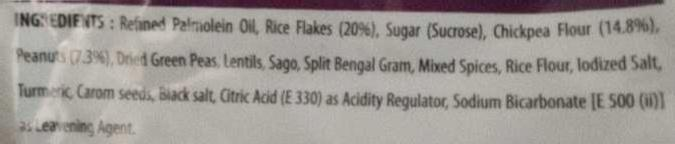ingredients: (12, 2, 675, 144)
